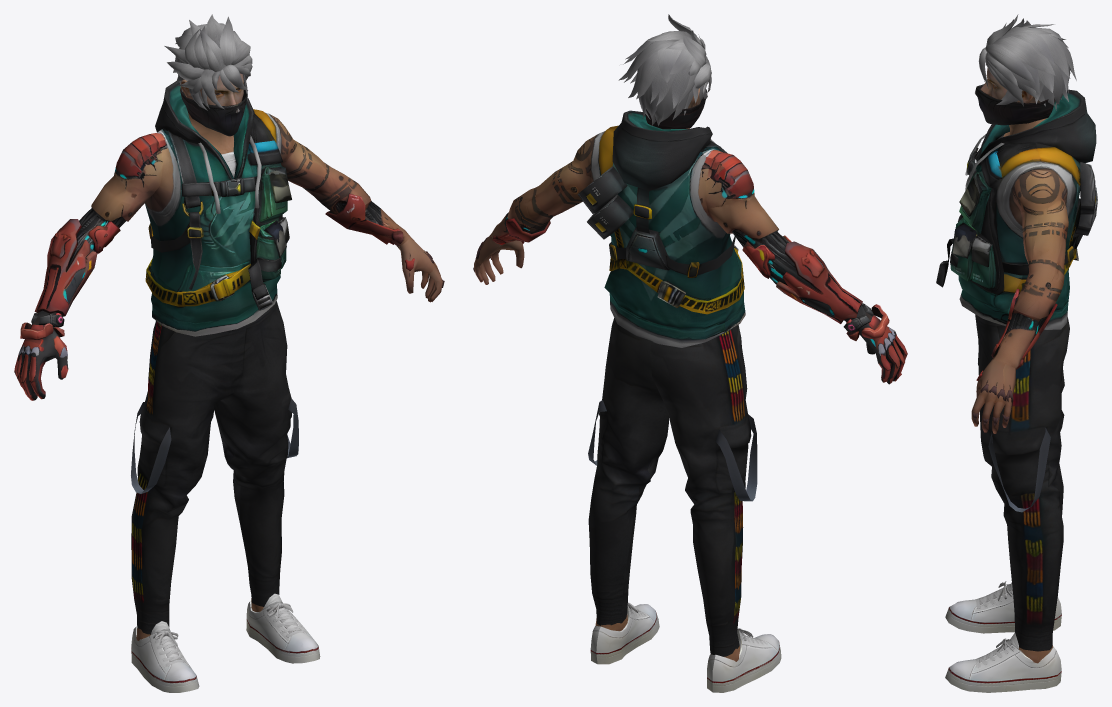
The model's file is marou.glb.
3 views of the same model, side by side, from view 1: azimuth 30°, elevation 25°; view 2: azimuth 150°, elevation 25°; view 3: azimuth 270°, elevation 25° (orthographic).
Visible parts, largest first — view 1: marou; view 2: marou; view 3: marou.
Part boxes in pixels (x1,y1,x2,y2): marou: (14, 14, 444, 692); marou: (473, 14, 907, 692); marou: (936, 14, 1097, 692).
Size of the model in its own units: 0.6373 by 0.9288 by 0.2127.
Materials: 8 (8 with a texture image).
